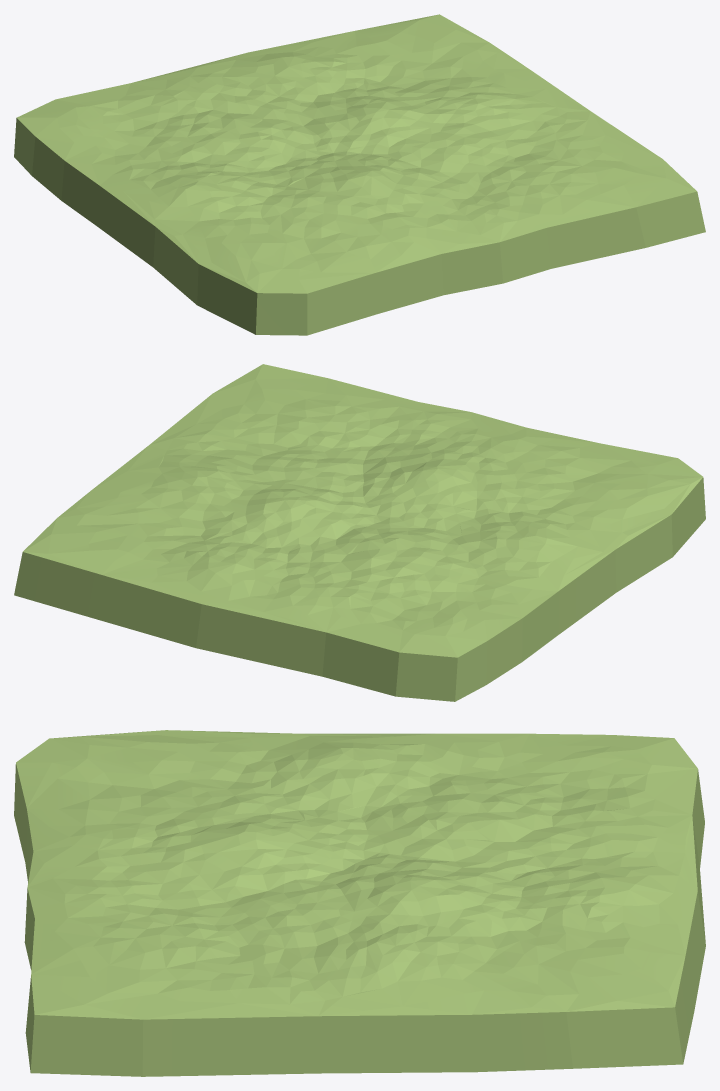
File: floating_meadow_2.glb
3 renders of one model, top to bottom at view 1: azimuth 30°, elevation 25°; view 2: azimuth 150°, elevation 25°; view 3: azimuth 270°, elevation 25°, orthographic. The views are drawn at different scales.
Parts seen in each view (by area): view 1: PP_Meadow_08; view 2: PP_Meadow_08; view 3: PP_Meadow_08.
Boxes of the visible parts, box(x1,y1,x2,y2) form: PP_Meadow_08: box(14, 14, 705, 335); PP_Meadow_08: box(14, 364, 705, 701); PP_Meadow_08: box(14, 730, 705, 1076).
Size of the model in its own units: 23.6 by 2.92 by 23.48.
